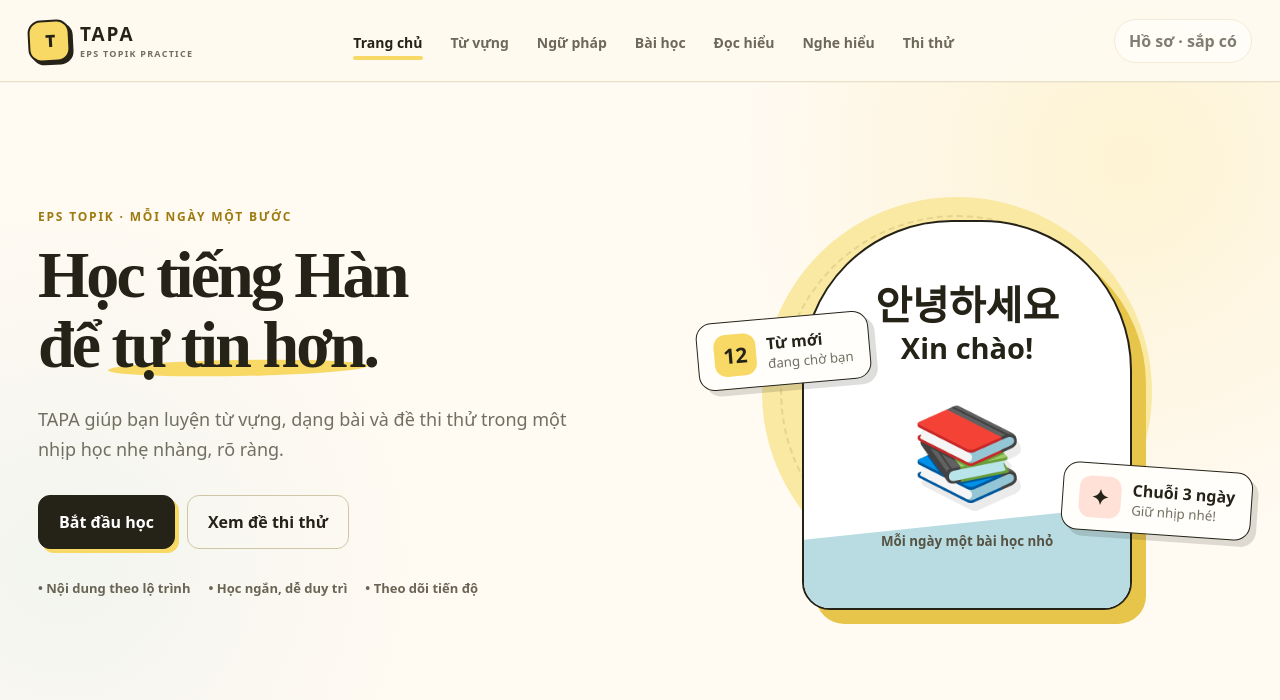
Test: TapaApp › changes the visible view from the semantic primary navigation
Click the button "Bài học".
click(660, 40)  # box [623,2,698,78]
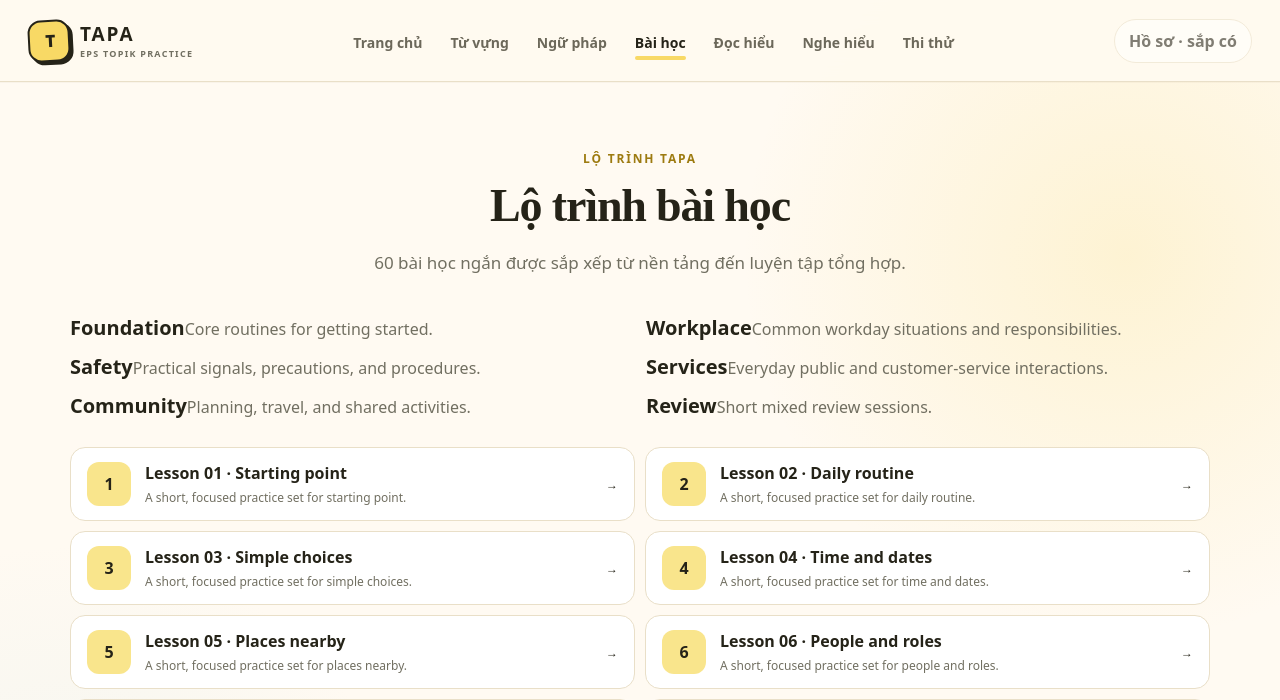
Expected: the heading "Lộ trình bài học" is shown, [490,180,790,231]
